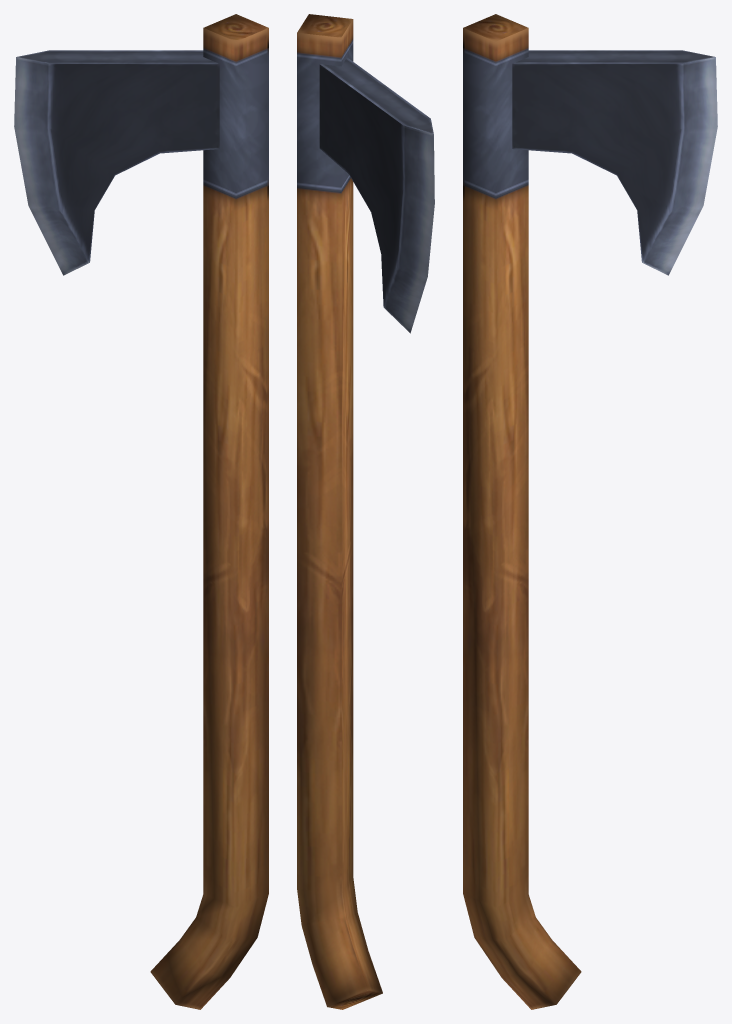
File: Battle axe1.FBX
3 renders of one model, left to right at view 1: azimuth 90°, elevation 25°; view 2: azimuth 210°, elevation 25°; view 3: azimuth 270°, elevation 25°, orthographic.
Parts seen in each view (by area): view 1: Battle axe1; view 2: Battle axe1; view 3: Battle axe1.
Boxes of the visible parts, x1,y1,x2,y2 form: Battle axe1: (14,14,268,1009); Battle axe1: (297,14,434,1009); Battle axe1: (463,14,717,1009).
Size of the model in its own units: 0.071 by 1.18 by 0.2762.
